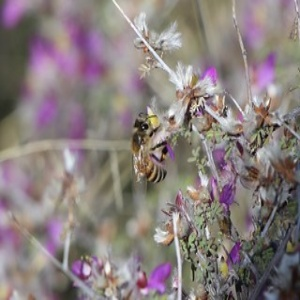bee: (130, 111, 171, 194)
